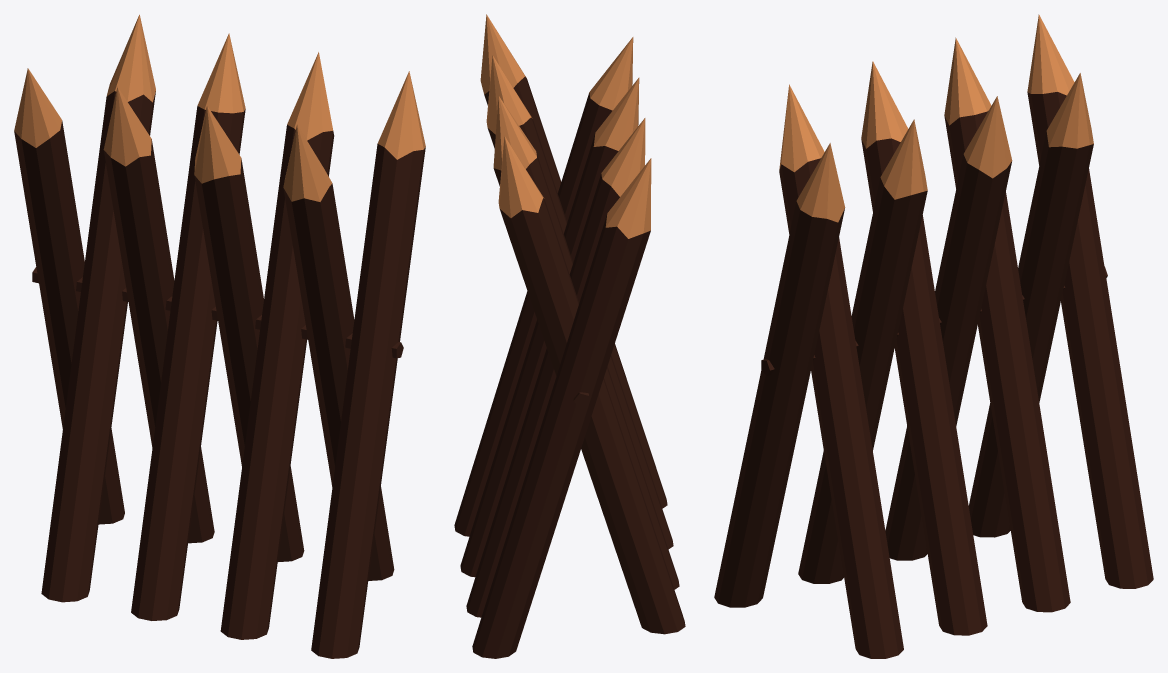
The model's file is pinchos.fbx.
3 views of the same model, side by side, from view 1: azimuth 30°, elevation 25°; view 2: azimuth 150°, elevation 25°; view 3: azimuth 270°, elevation 25° (orthographic). The views are drawn at different scales.
Visible parts, largest first — view 1: stockade2 v:178 f:174; view 2: stockade2 v:178 f:174; view 3: stockade2 v:178 f:174.
Part boxes in pixels (<box>): stockade2 v:178 f:174: <box>14,14,425,658</box>; stockade2 v:178 f:174: <box>454,14,685,658</box>; stockade2 v:178 f:174: <box>714,14,1153,658</box>.
Size of the model in its own units: 359 by 604 by 469.
